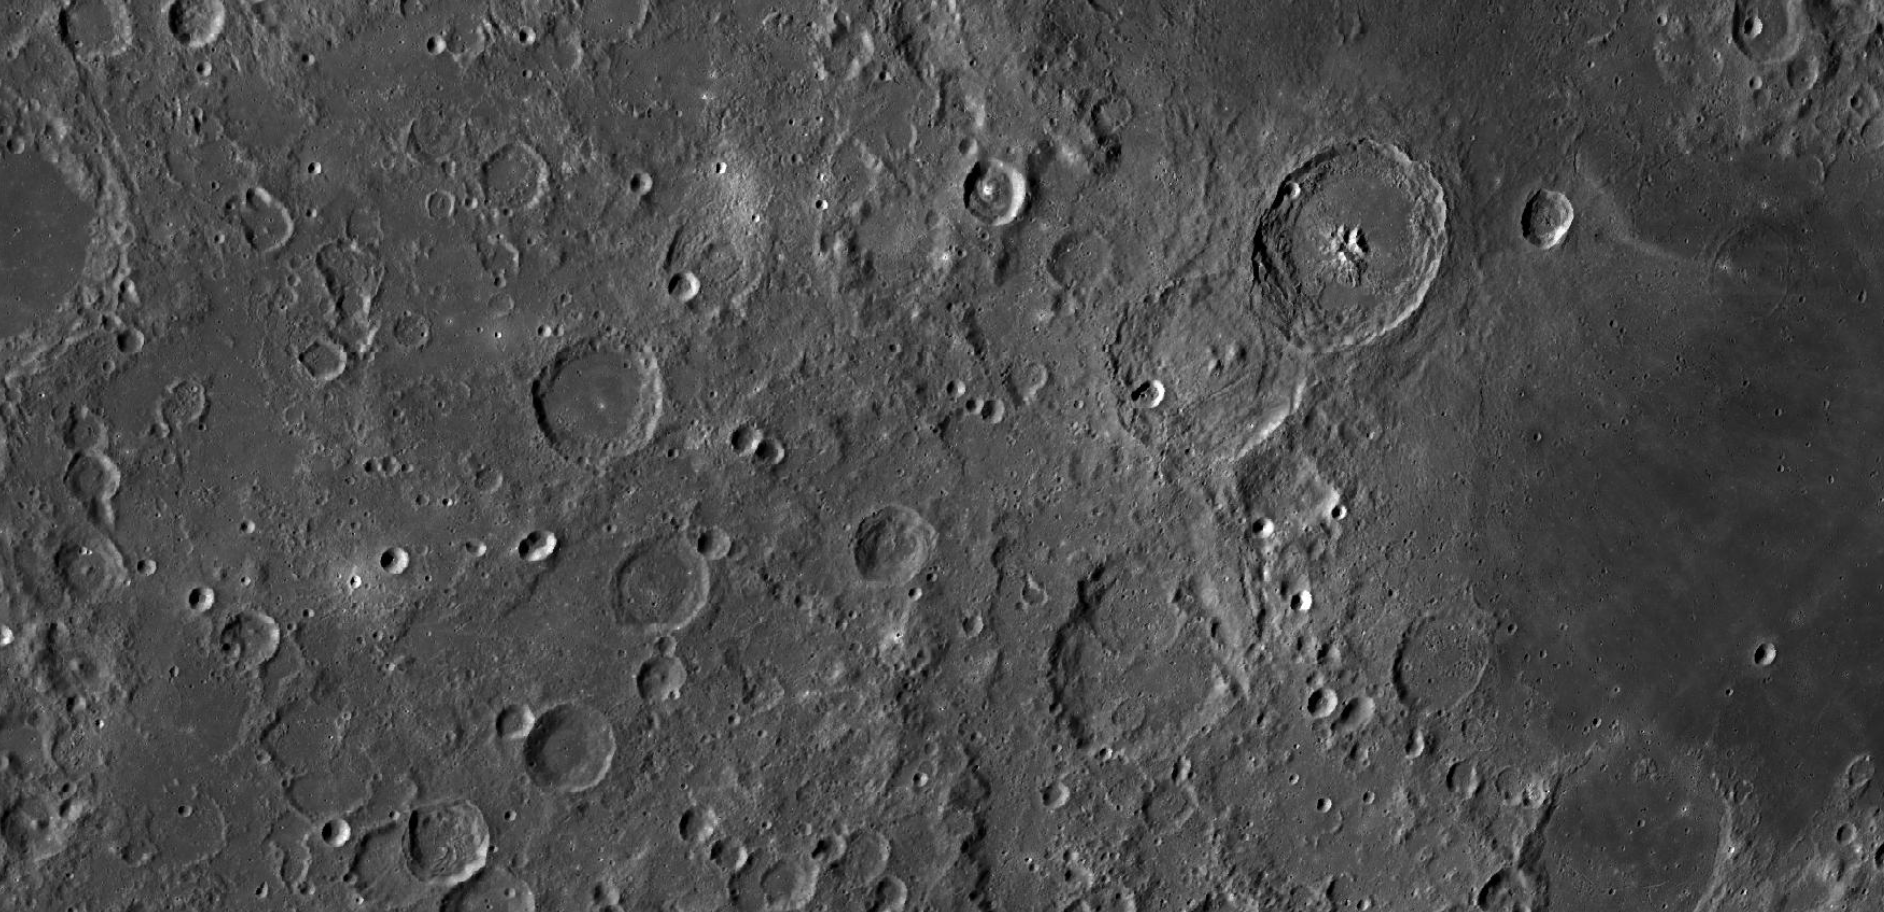crater: (1229, 126, 1492, 359), (1027, 547, 1258, 765), (513, 324, 682, 484), (1381, 596, 1508, 725), (600, 527, 720, 637), (520, 698, 638, 803), (1512, 175, 1594, 274), (950, 154, 1043, 228), (1725, 2, 1806, 70), (279, 330, 354, 399), (1735, 628, 1805, 680), (372, 537, 419, 588), (412, 184, 458, 225)
